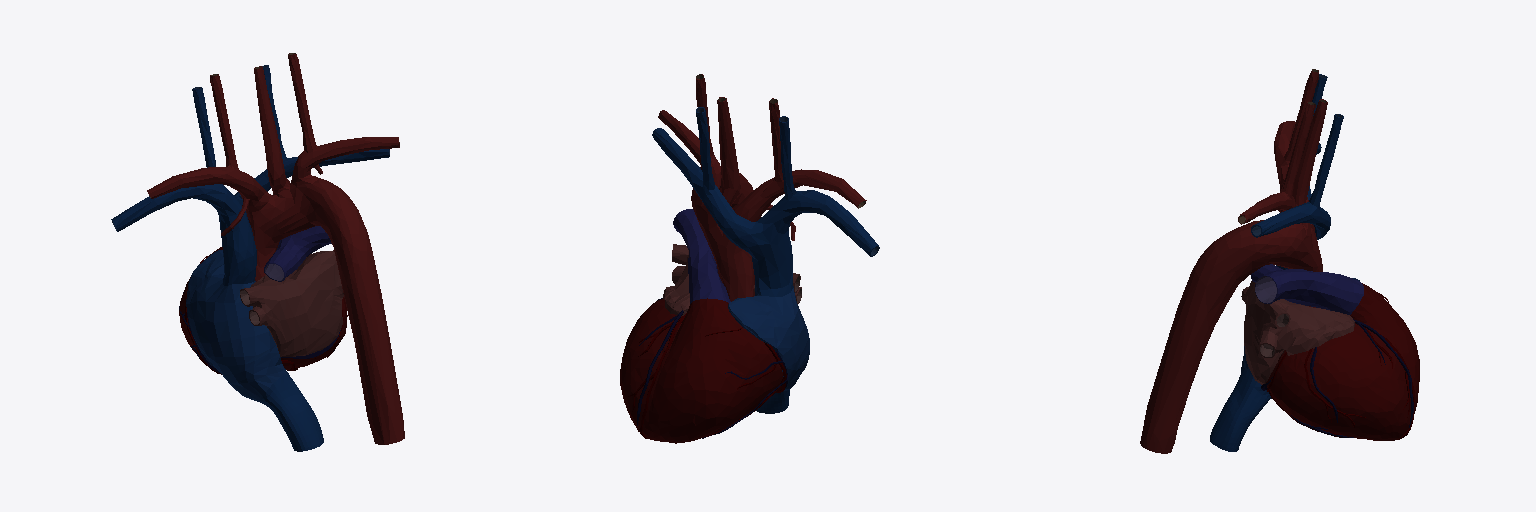
The model's file is Heart_C.obj.
3 renders of one model, left to right at view 1: azimuth 30°, elevation 25°; view 2: azimuth 150°, elevation 25°; view 3: azimuth 270°, elevation 25°, orthographic.
Visible parts, largest first — view 1: Root_008_mesh27-geometry, Root_023_mesh72-geometry, Root_025_mesh78-geometry, Root_013_mesh42-geometry, Root_012_mesh39-geometry, Root_007_mesh24-geometry, Root_027_mesh84-geometry; view 2: Root_027_mesh84-geometry, Root_013_mesh42-geometry, Root_008_mesh27-geometry, Root_023_mesh72-geometry, Root_007_mesh24-geometry, Root_025_mesh78-geometry; view 3: Root_008_mesh27-geometry, Root_027_mesh84-geometry, Root_025_mesh78-geometry, Root_007_mesh24-geometry, Root_013_mesh42-geometry, Root_012_mesh39-geometry.
Boxes of the visible parts, x1,y1,x2,y2 form: Root_008_mesh27-geometry: [147, 53, 404, 444]; Root_023_mesh72-geometry: [186, 250, 288, 401]; Root_025_mesh78-geometry: [240, 250, 343, 356]; Root_013_mesh42-geometry: [111, 65, 389, 285]; Root_012_mesh39-geometry: [258, 374, 323, 451]; Root_007_mesh24-geometry: [264, 226, 331, 281]; Root_027_mesh84-geometry: [179, 247, 347, 374]; Root_027_mesh84-geometry: [620, 298, 787, 443]; Root_013_mesh42-geometry: [652, 107, 879, 296]; Root_008_mesh27-geometry: [658, 74, 866, 301]; Root_023_mesh72-geometry: [728, 288, 809, 390]; Root_007_mesh24-geometry: [673, 209, 730, 303]; Root_025_mesh78-geometry: [663, 244, 801, 315]; Root_008_mesh27-geometry: [1140, 69, 1327, 453]; Root_027_mesh84-geometry: [1261, 283, 1419, 440]; Root_025_mesh78-geometry: [1241, 281, 1354, 384]; Root_007_mesh24-geometry: [1251, 264, 1363, 314]; Root_013_mesh42-geometry: [1251, 74, 1343, 269]; Root_012_mesh39-geometry: [1210, 369, 1271, 451].
Size of the model in its own units: 9.46 by 12.78 by 9.06.